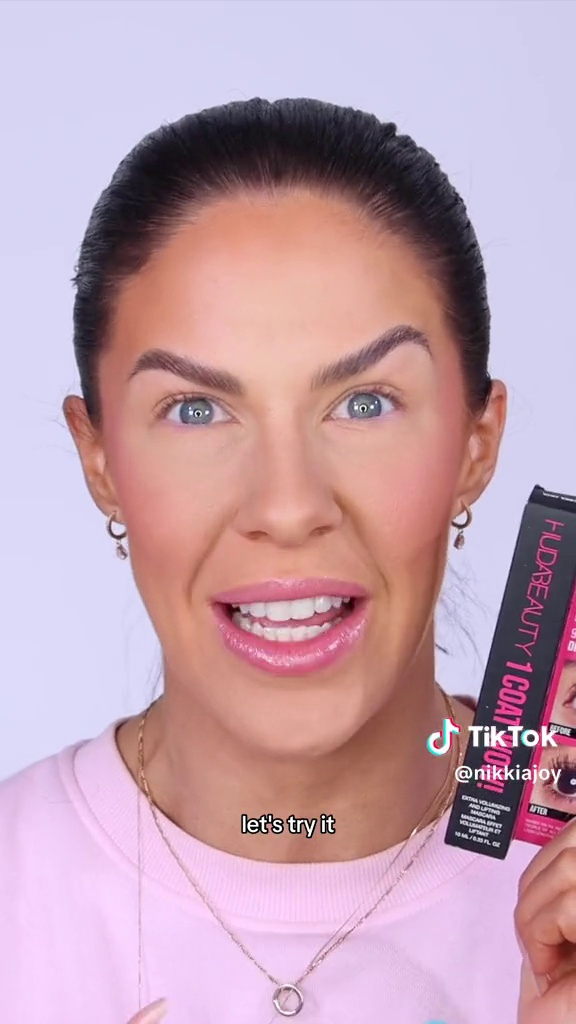train' :'yolo_data/train/images',: (424, 480, 575, 862)
